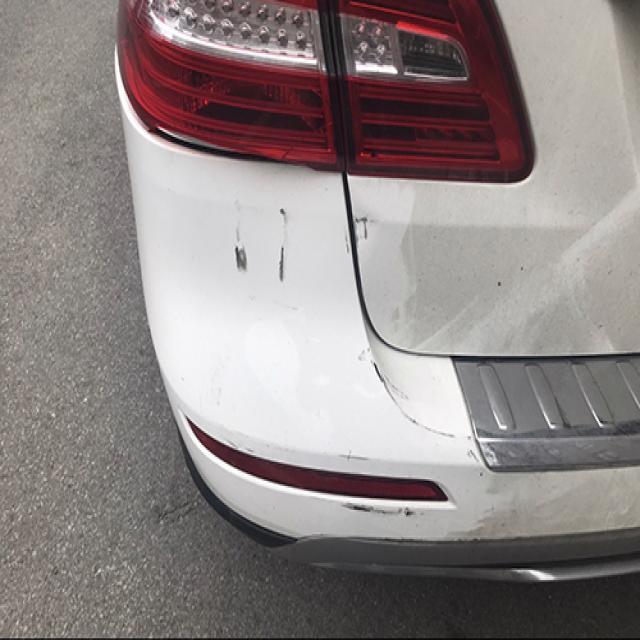scratch: (356, 338, 500, 482), (338, 498, 417, 519), (229, 201, 251, 275), (338, 211, 371, 260), (277, 206, 289, 284), (338, 453, 371, 462)
